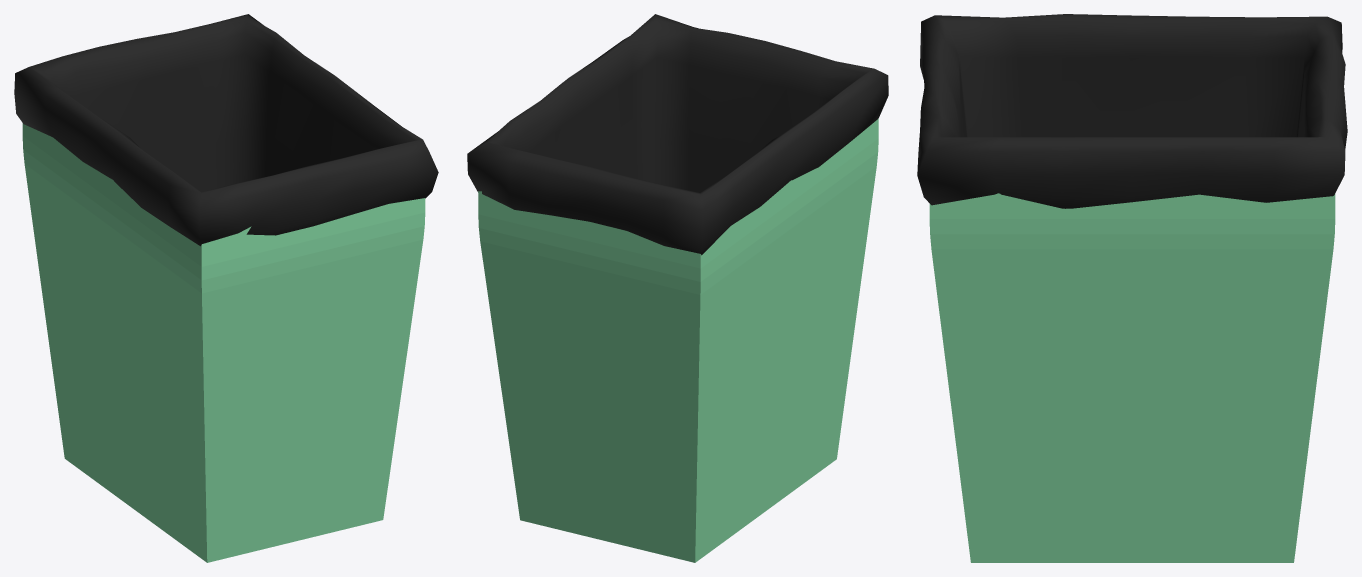
Rendered from TrashBin.gltf.
3 views of the same model, side by side, from view 1: azimuth 30°, elevation 25°; view 2: azimuth 150°, elevation 25°; view 3: azimuth 270°, elevation 25° (orthographic). The views are drawn at different scales.
Visible parts, largest first — view 1: TrashBin, Trashbag; view 2: TrashBin, Trashbag; view 3: TrashBin, Trashbag.
Boxes of the visible parts, <box> form: TrashBin: <box>22,123,425,562</box>; Trashbag: <box>14,14,438,246</box>; TrashBin: <box>478,118,878,562</box>; Trashbag: <box>467,14,888,255</box>; TrashBin: <box>929,193,1335,562</box>; Trashbag: <box>917,14,1347,208</box>.
Size of the model in its own units: 0.4441 by 0.6848 by 0.6088.
